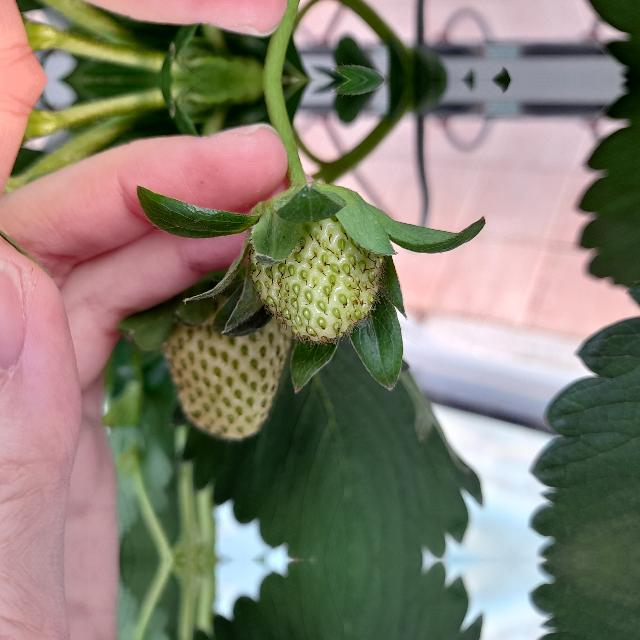Health_25: (248, 182, 382, 342), (162, 294, 288, 438)
